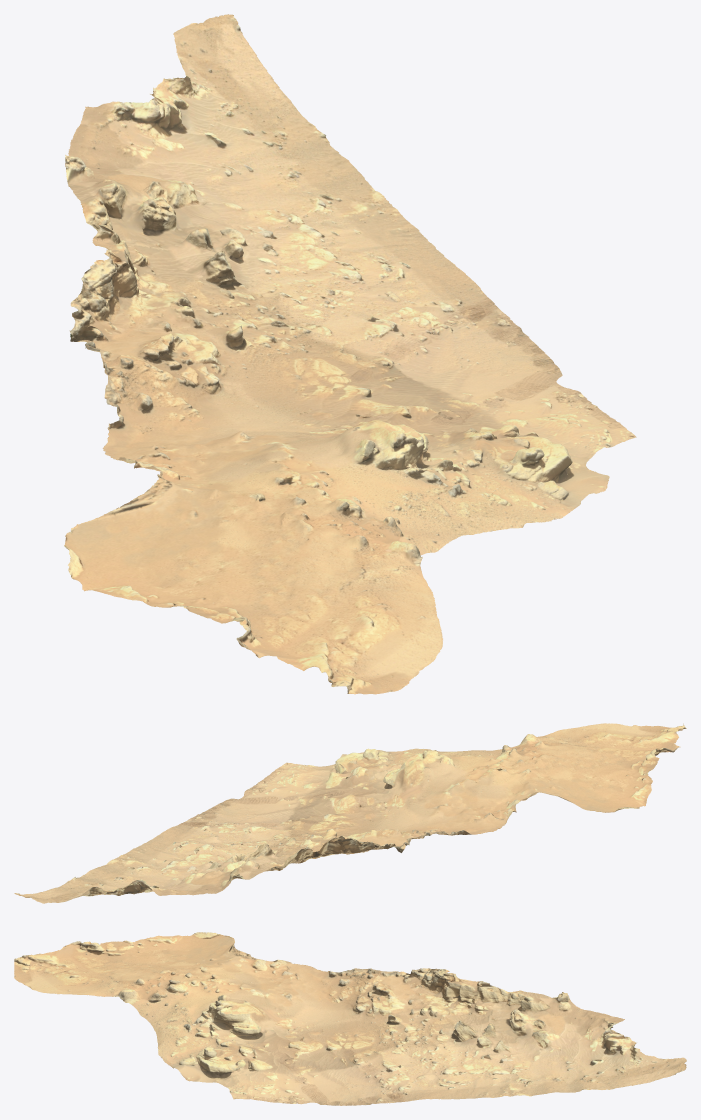
Rendered from mars_landscape.glb.
3 views of the same model, one above another, from view 1: azimuth 30°, elevation 25°; view 2: azimuth 150°, elevation 25°; view 3: azimuth 270°, elevation 25° (orthographic). The views are drawn at different scales.
Visible parts, largest first — view 1: Object_2, Object_3, Object_4; view 2: Object_3, Object_2, Object_4; view 3: Object_3, Object_2, Object_4.
Boxes of the visible parts, x1=… form: Object_2: x1=64, y1=14, x2=635, y2=694; Object_3: x1=65, y1=14, x2=636, y2=693; Object_4: x1=66, y1=500, x2=510, y2=689; Object_3: x1=17, y1=723, x2=684, y2=903; Object_2: x1=14, y1=723, x2=686, y2=903; Object_4: x1=438, y1=726, x2=681, y2=811; Object_3: x1=15, y1=932, x2=686, y2=1105; Object_2: x1=14, y1=932, x2=686, y2=1105; Object_4: x1=17, y1=934, x2=220, y2=1042.
Size of the model in its own units: 13.05 by 2.04 by 23.33.
Materials: 1 (1 with a texture image).
